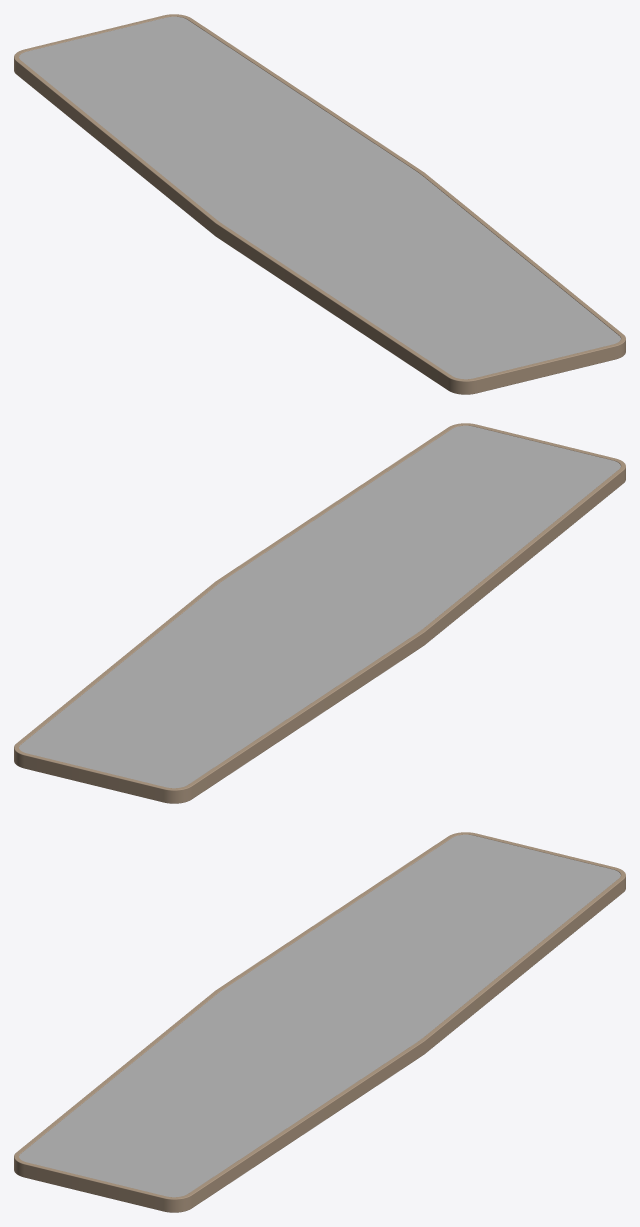
Rendered from espelho-greco.glb.
3 views of the same model, one above another, from view 1: azimuth 30°, elevation 25°; view 2: azimuth 150°, elevation 25°; view 3: azimuth 330°, elevation 25° (orthographic).
Size of the model in its own units: 0.48 by 0.0301 by 1.8.
